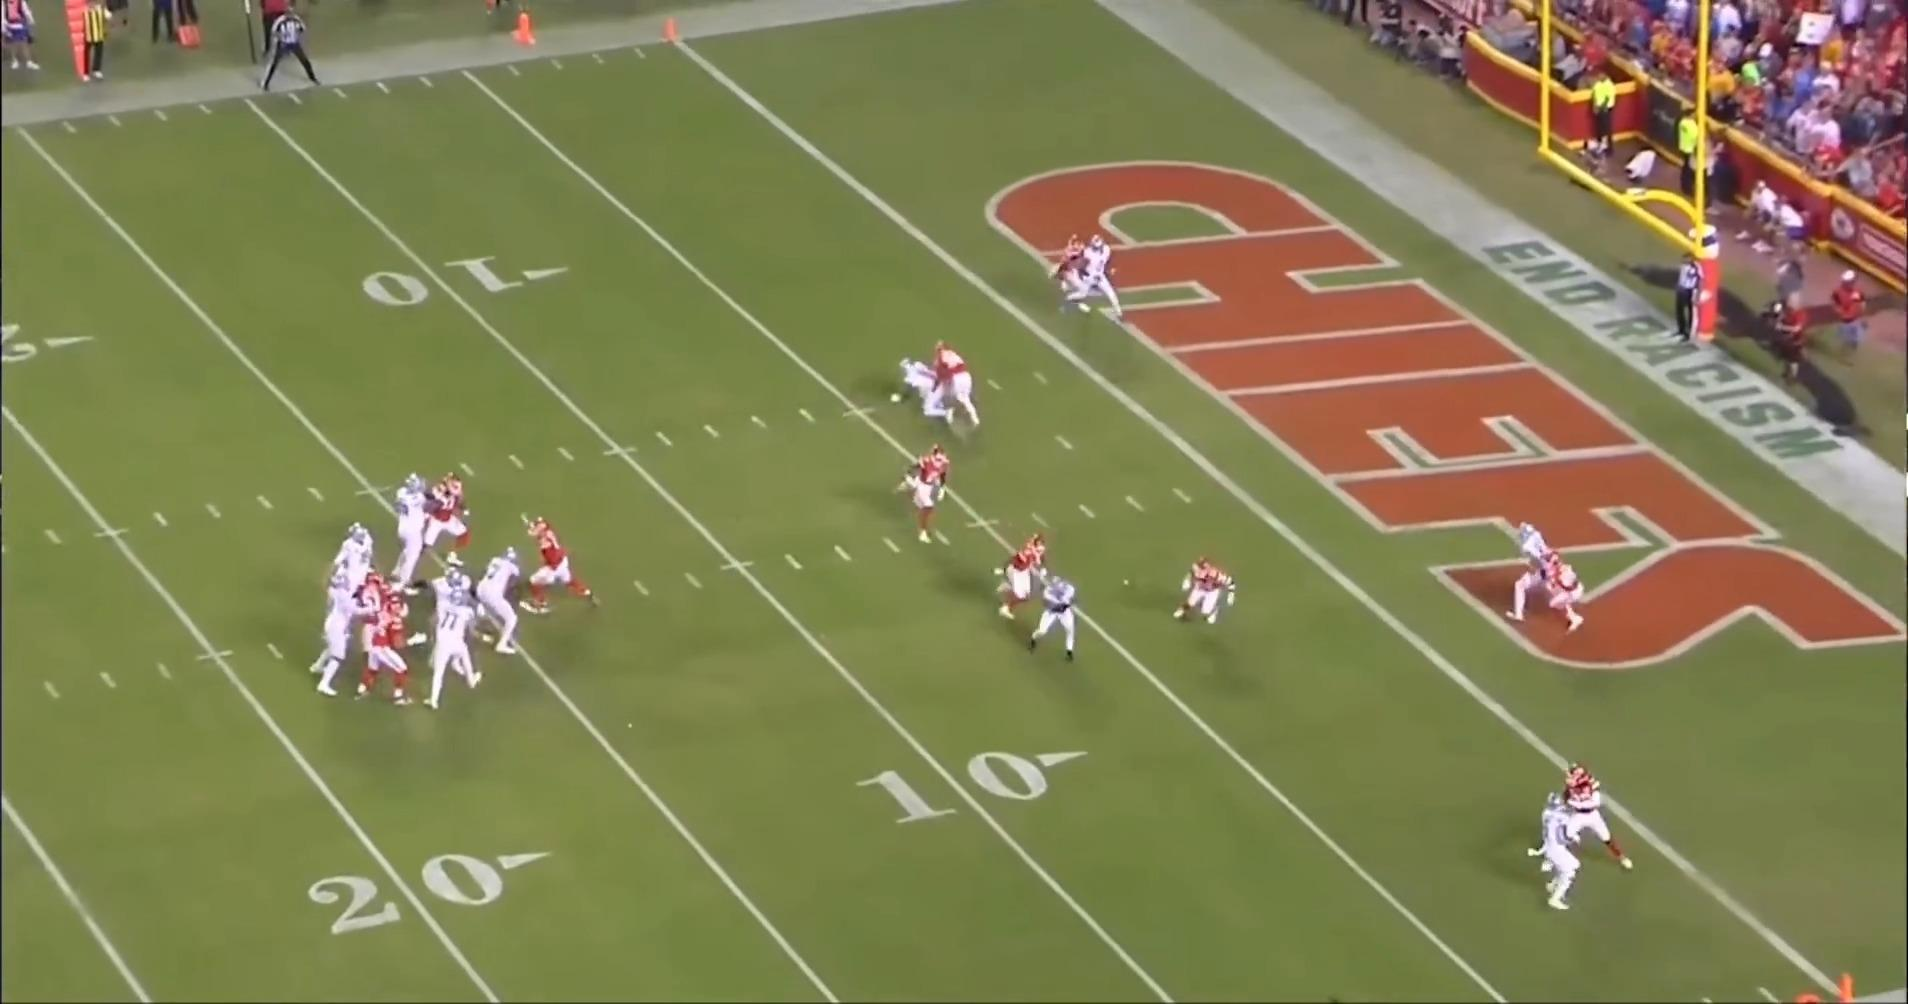defense: (1555, 763, 1630, 873), (360, 595, 429, 711), (515, 511, 591, 613), (901, 444, 963, 550), (1543, 550, 1598, 643), (994, 537, 1051, 626), (929, 346, 979, 441), (1175, 561, 1240, 631), (421, 469, 466, 565), (1054, 227, 1090, 318), (352, 564, 390, 651)
oline: (419, 589, 478, 711), (482, 546, 543, 662), (385, 469, 438, 597), (307, 571, 357, 698), (429, 560, 473, 598)
qb: (339, 518, 379, 580)
ref: (254, 8, 322, 97), (1659, 248, 1702, 353)
skill: (1523, 793, 1581, 913), (1068, 231, 1134, 320), (1033, 571, 1092, 665), (1504, 521, 1551, 632), (888, 357, 949, 431)
